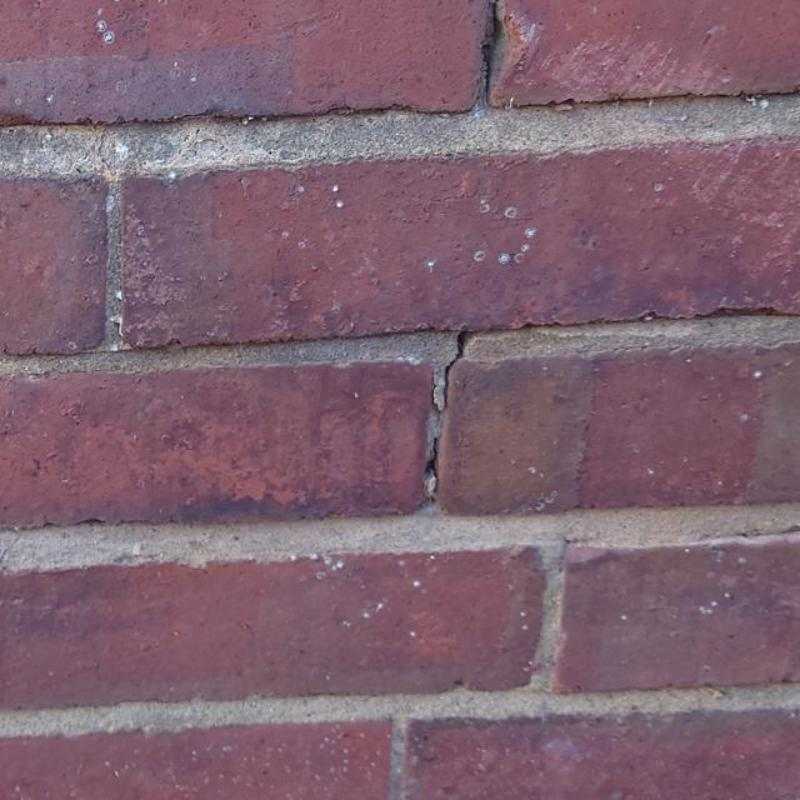pothole: (442, 333, 464, 409), (426, 437, 439, 493), (430, 371, 439, 412)
